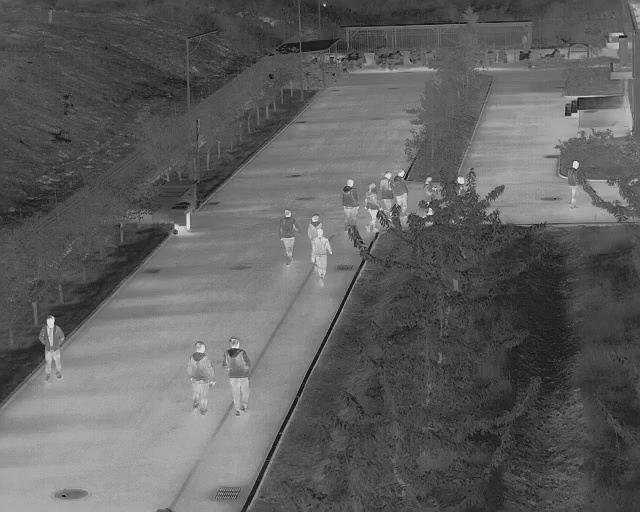person: (221, 336, 254, 416), (38, 314, 68, 384), (188, 341, 215, 418), (310, 227, 336, 287), (278, 208, 304, 267), (341, 177, 361, 231), (363, 182, 383, 232), (393, 169, 408, 215), (568, 159, 579, 209), (381, 170, 393, 212)
